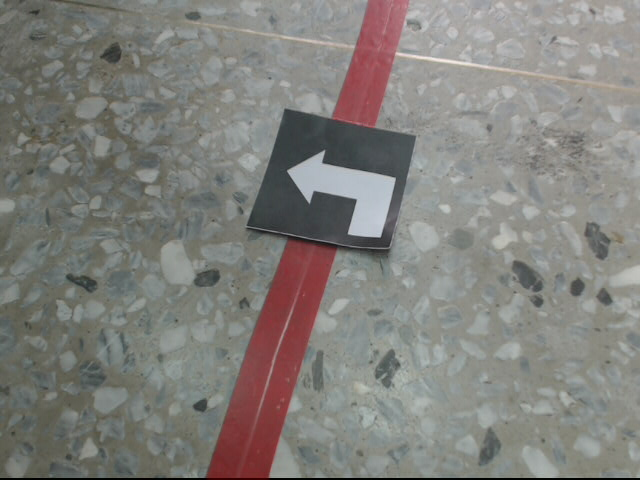left: (247, 108, 416, 251)
